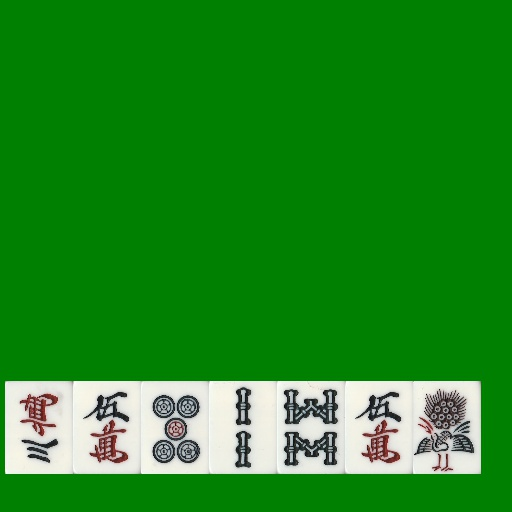1s: (413, 381, 481, 474)
2s: (209, 381, 277, 474)
3m: (5, 381, 73, 474)
5m: (73, 381, 141, 474), (345, 381, 413, 474)
5p: (141, 381, 209, 474)
8s: (277, 381, 345, 474)
